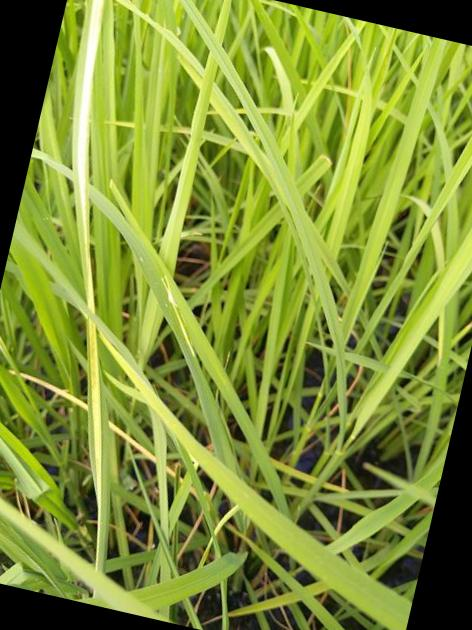Leaf Blight: (72, 0, 104, 316), (85, 321, 106, 523)
